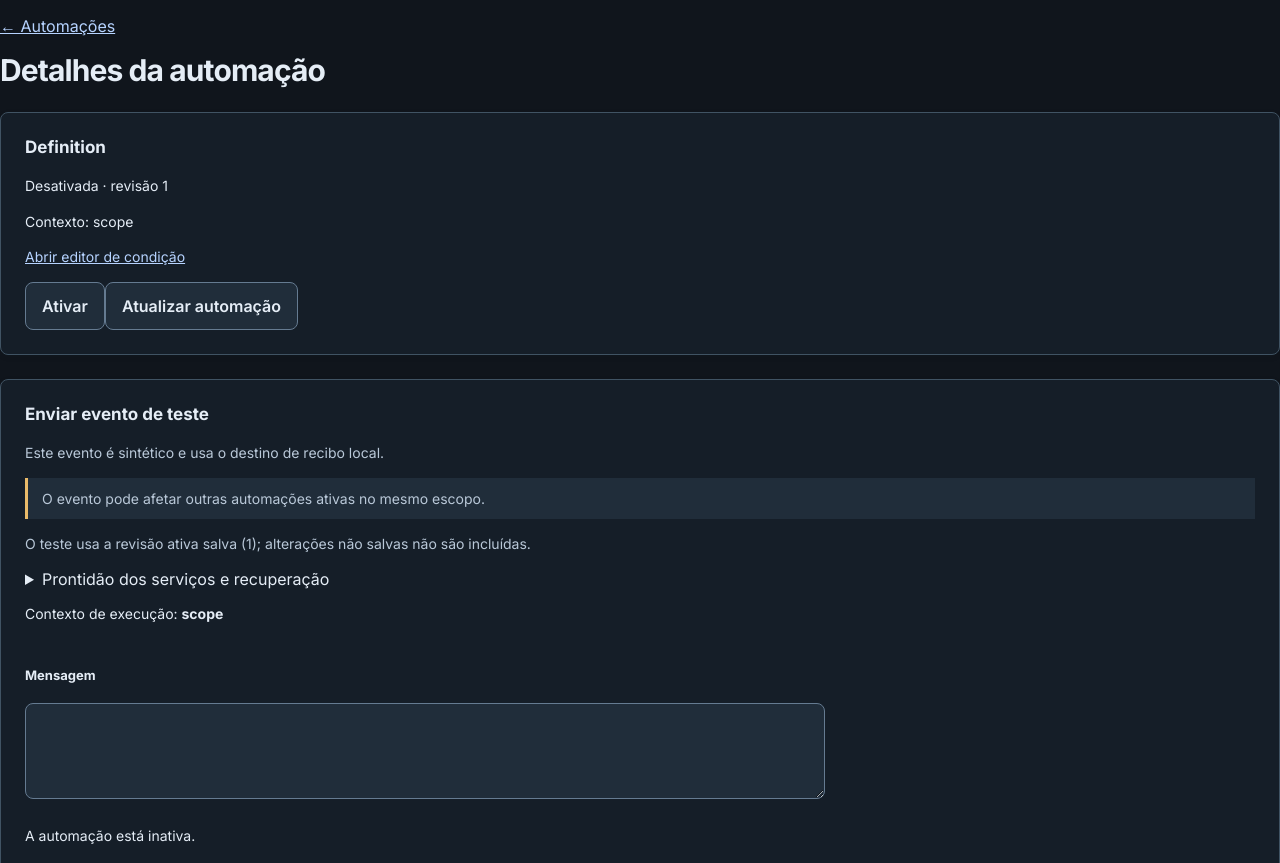
Test: keeps a successful update when an older refresh resolves afterward
Expected: the button "Ativar" is shown, 25,282 -> 105,330
Step 1. Click the button "Atualizar automação" → point(201, 306), box 105,282 -> 298,330
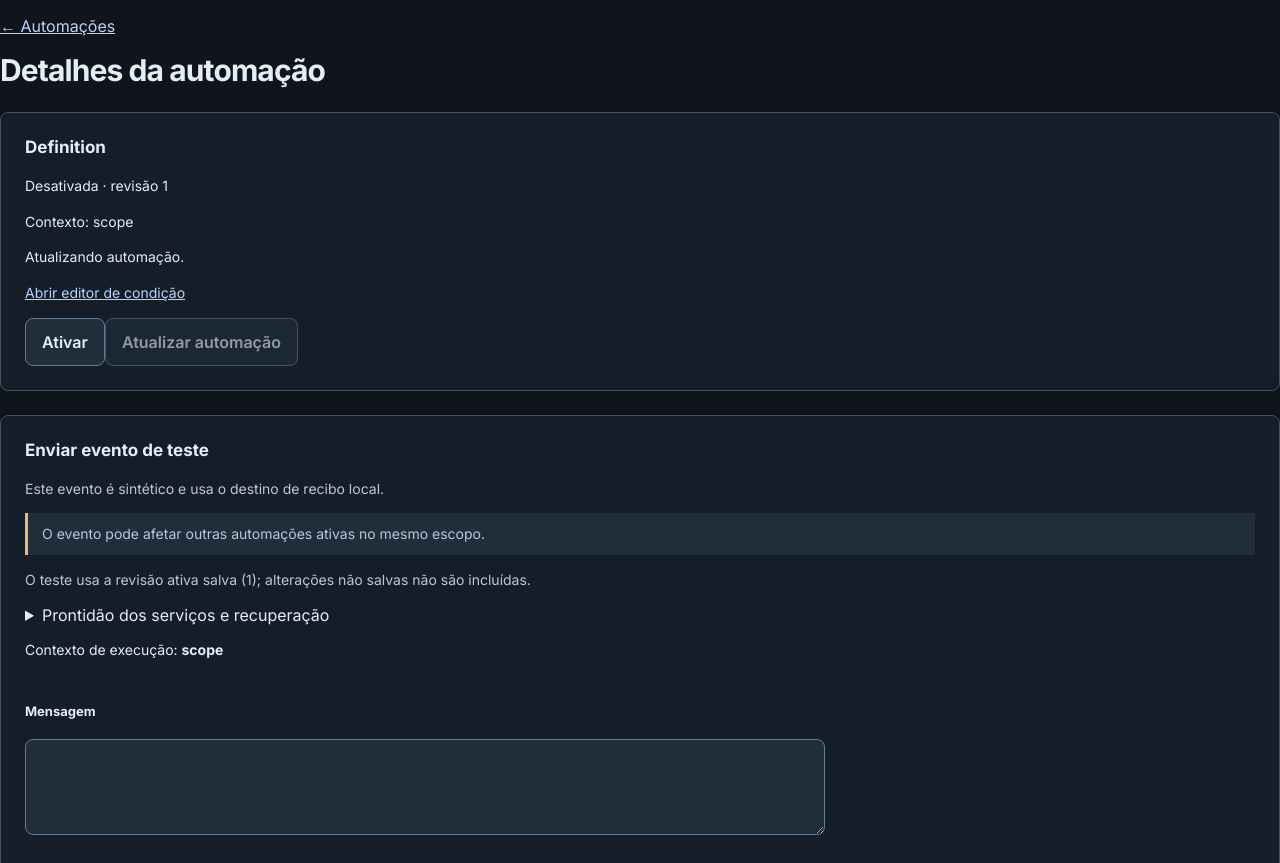
Result: the text "Atualizando automação." is shown at 25,248 -> 184,265
Step 2. Click the button "Ativar" → point(65, 342), box 25,318 -> 105,366
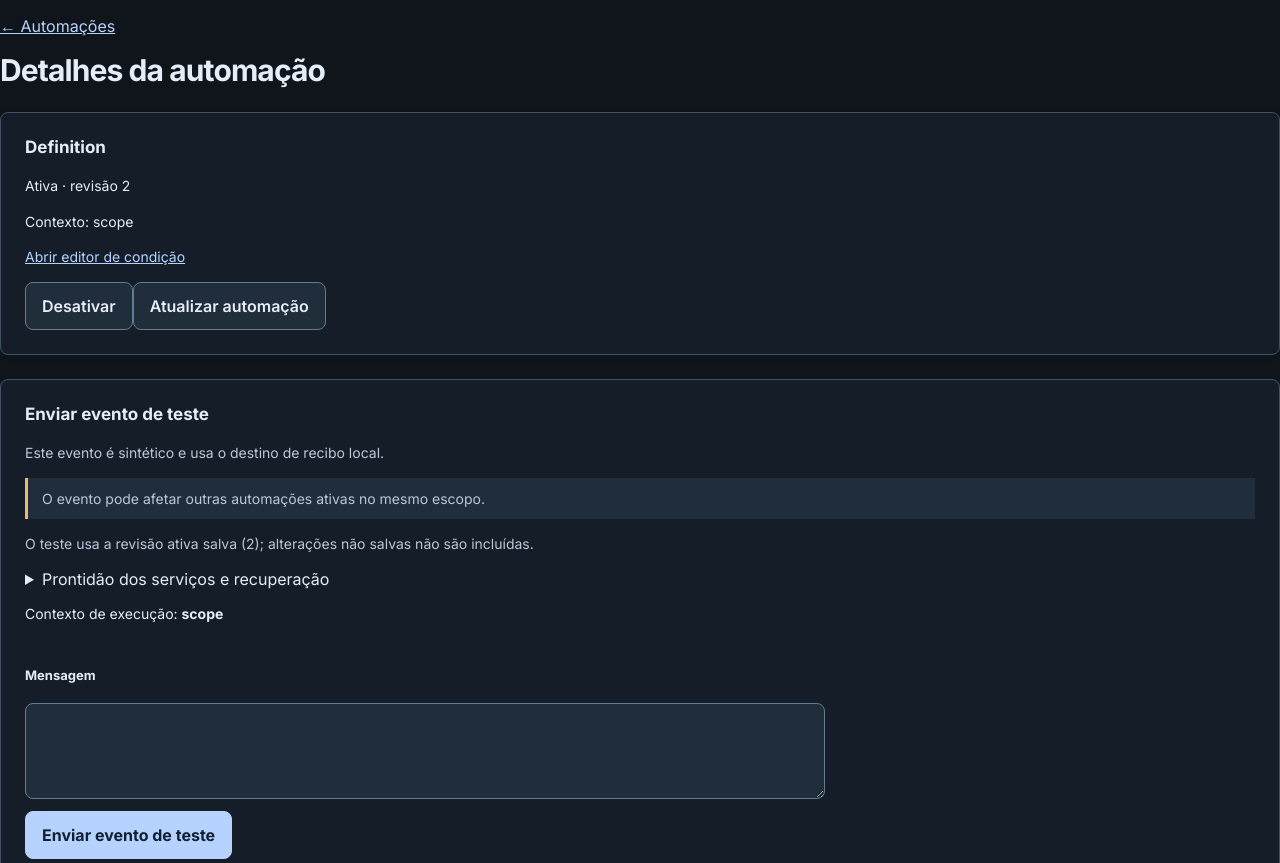
Result: the button "Desativar" is shown at 25,282 -> 133,330
Result: the text "Ativa · revisão 2" is shown at 25,177 -> 130,194
Result: the text "Atualizando automação." is gone
